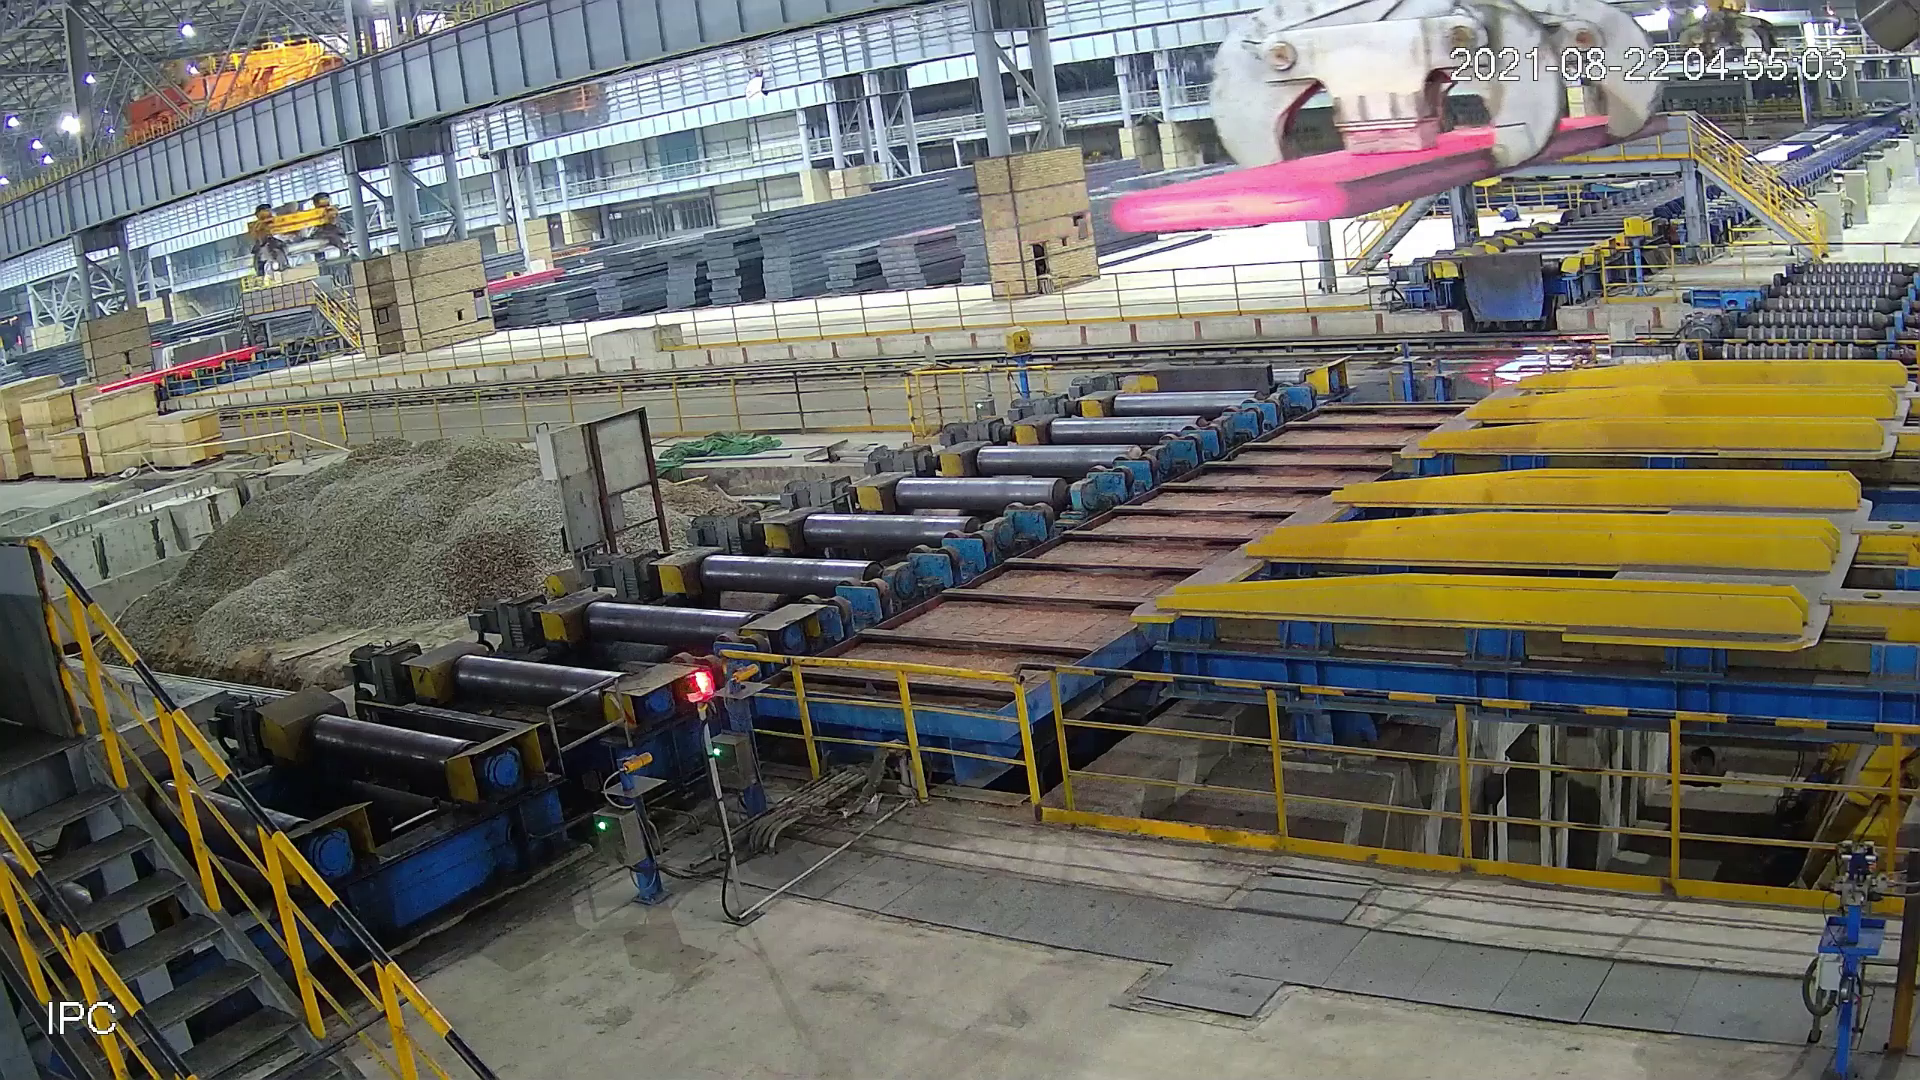crane: (1663, 1, 1782, 69)
craneandslab: (1105, 1, 1679, 248)
